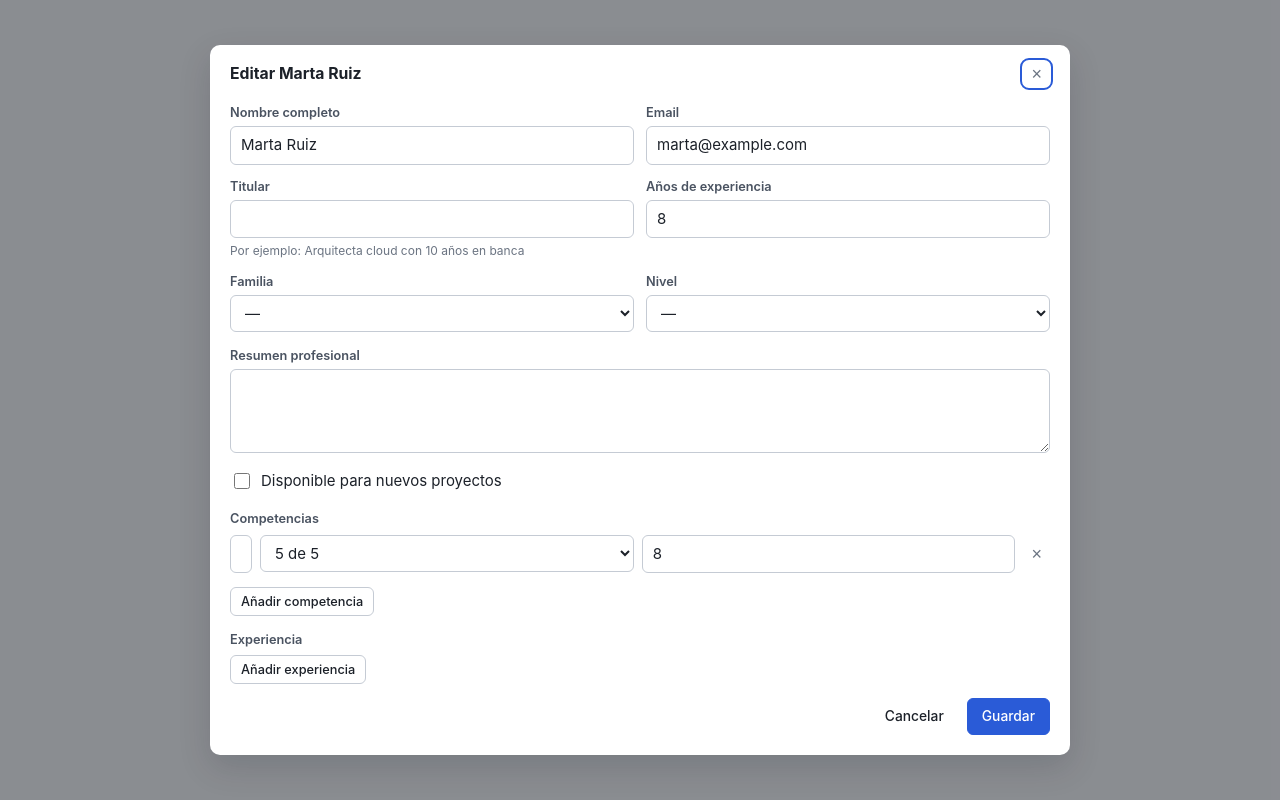
Test: ProfileForm › al editar manda PATCH con la versión (bloqueo optimista) y muestra el 409
The width and height of the screenshot is (1280, 800).
Expected: the field named "Competencia" holds "Python", [230,534,252,573]
Click the button "Guardar" at (1008,717), box [967,698,1050,735]
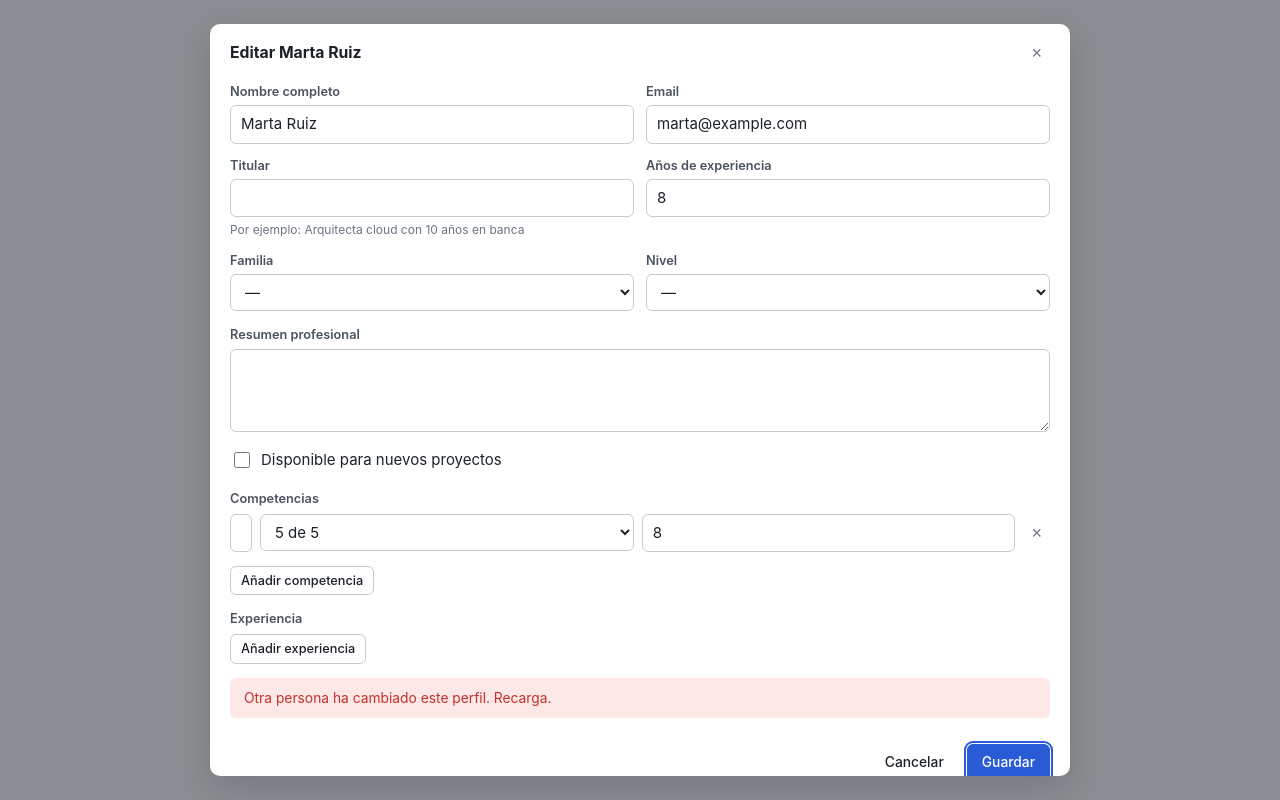
Expected: the text "Otra persona ha cambiado este perfil. Recarga." is shown, [230,678,1050,718]
